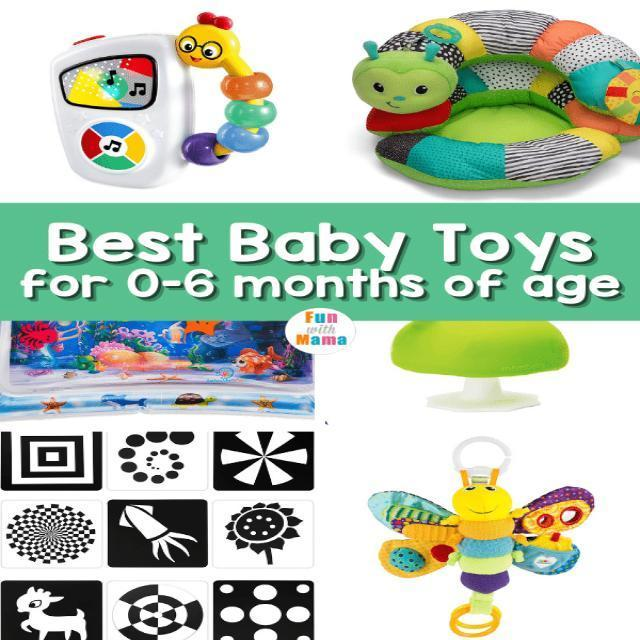soft-toy: (354, 11, 640, 189)
